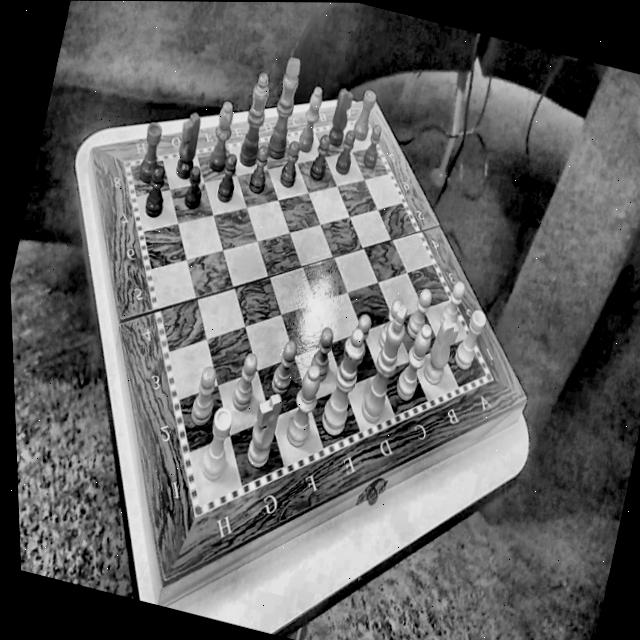chessboard: (131, 124, 483, 502)
